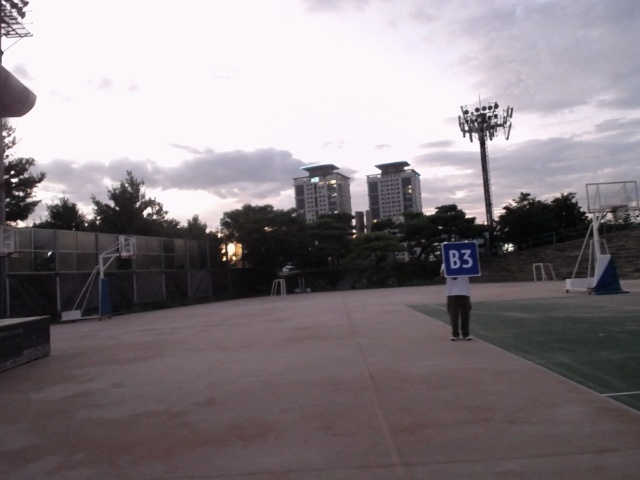delivery_b3: (441, 242, 481, 278)
